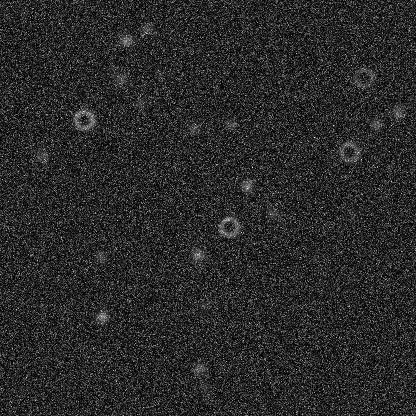Ring: (337, 139, 361, 163), (217, 214, 241, 238), (351, 65, 375, 89), (71, 107, 95, 131)
Spot: (132, 95, 148, 111), (34, 147, 50, 163), (195, 296, 211, 312), (367, 116, 383, 132), (149, 66, 165, 82), (92, 248, 108, 264), (222, 116, 238, 132), (239, 177, 255, 193), (343, 208, 359, 224), (138, 22, 154, 38), (93, 308, 109, 324), (390, 104, 406, 120), (192, 359, 208, 375), (112, 71, 128, 87), (104, 61, 120, 77), (184, 120, 200, 136), (118, 32, 134, 48), (264, 205, 280, 221), (189, 247, 205, 263), (197, 380, 213, 396)
